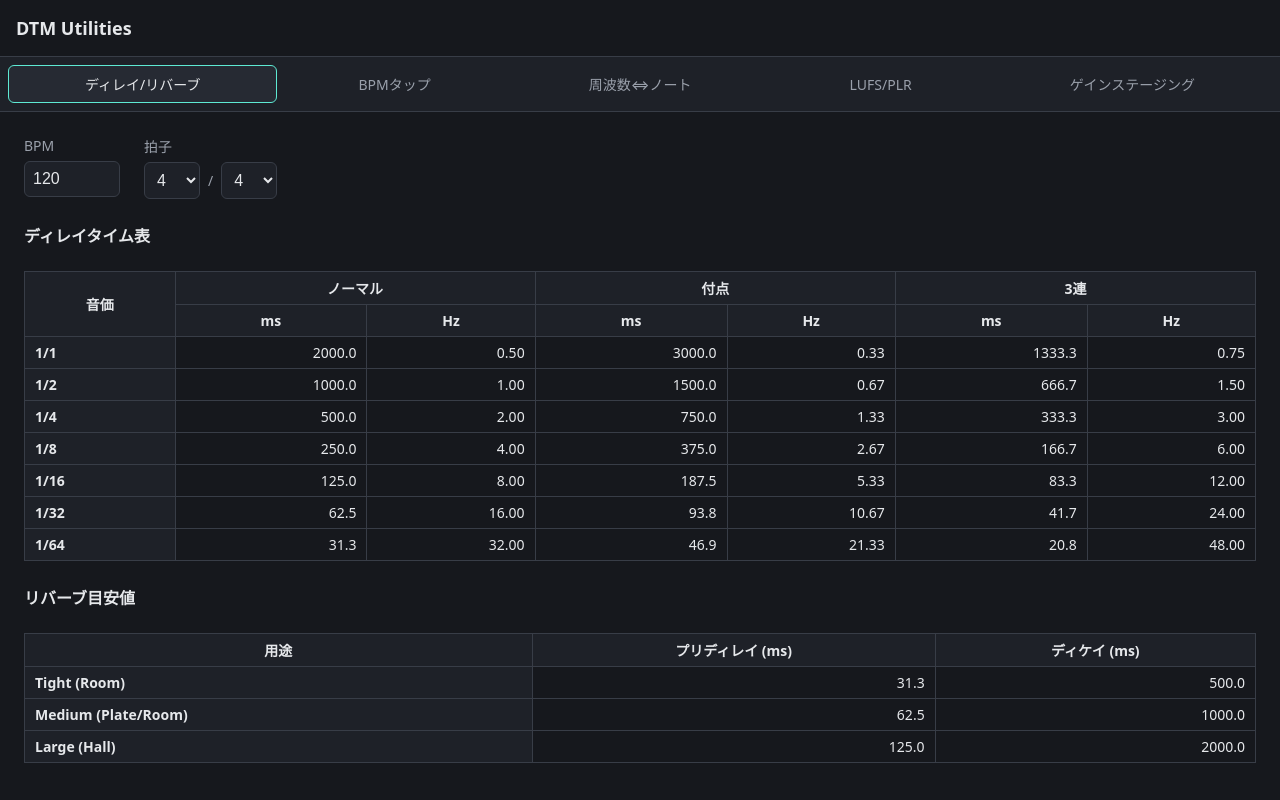
Test: App › hands the tapped BPM off to the delay/reverb tab and switches to it
This screenshot has width=1280, height=800.
Click the tab "BPMタップ" at (395, 84), box [281,65,508,103]
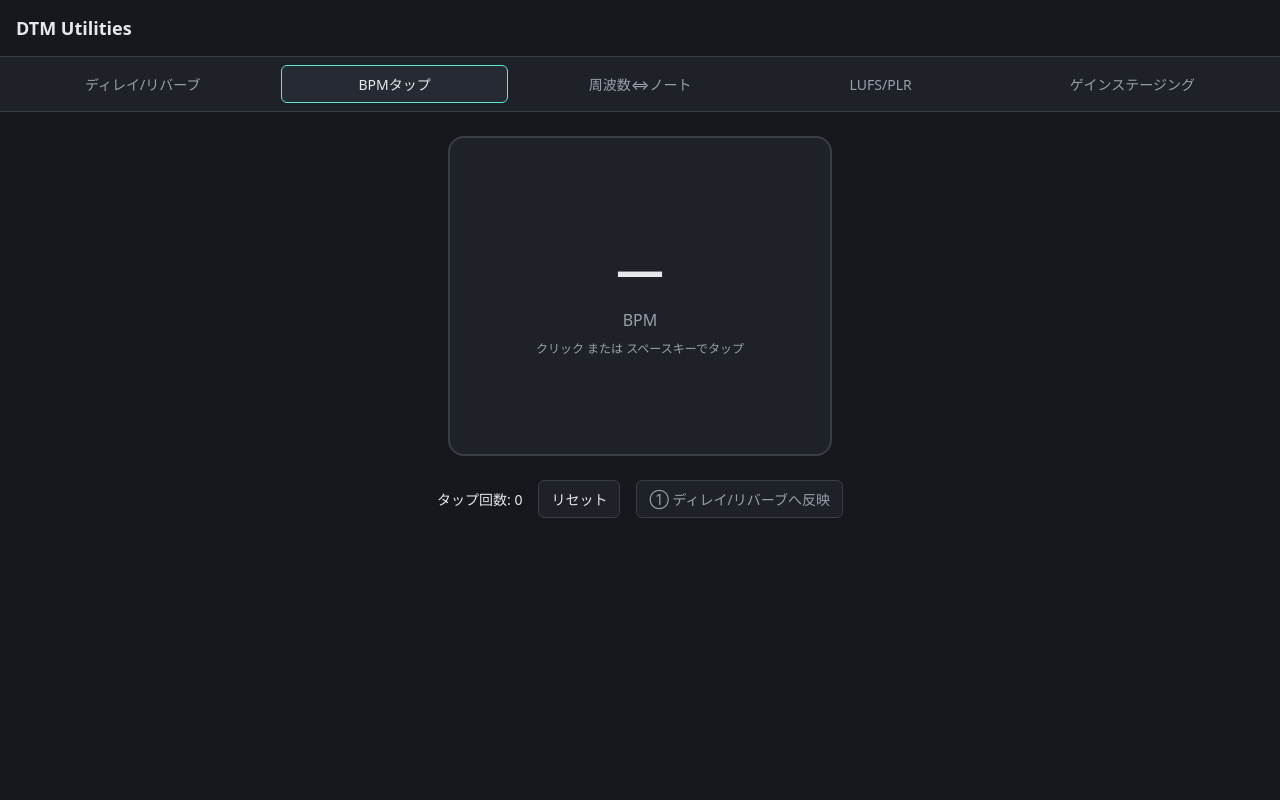
Click the button "— BPM クリック または スペースキーでタップ" at (640, 296), box [448,136,832,456]
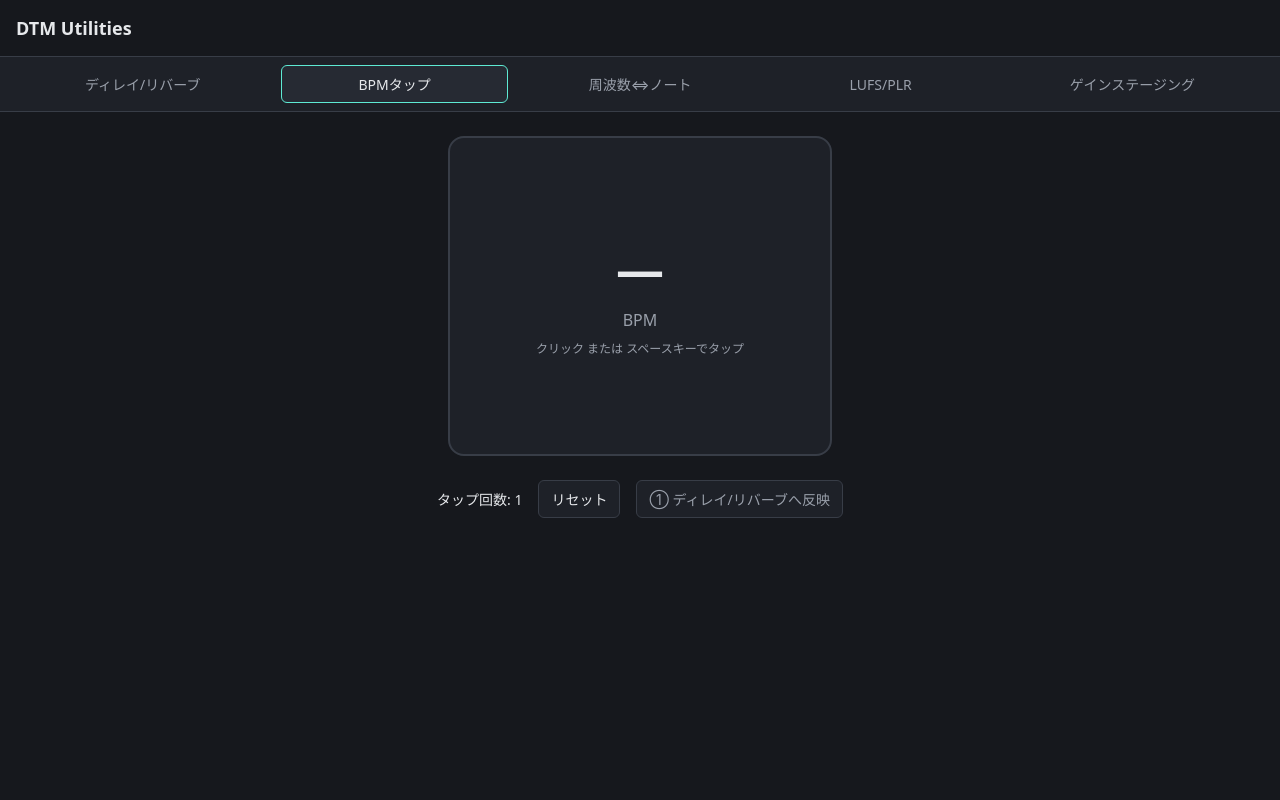
Click the button "— BPM クリック または スペースキーでタップ" at (640, 296), box [448,136,832,456]
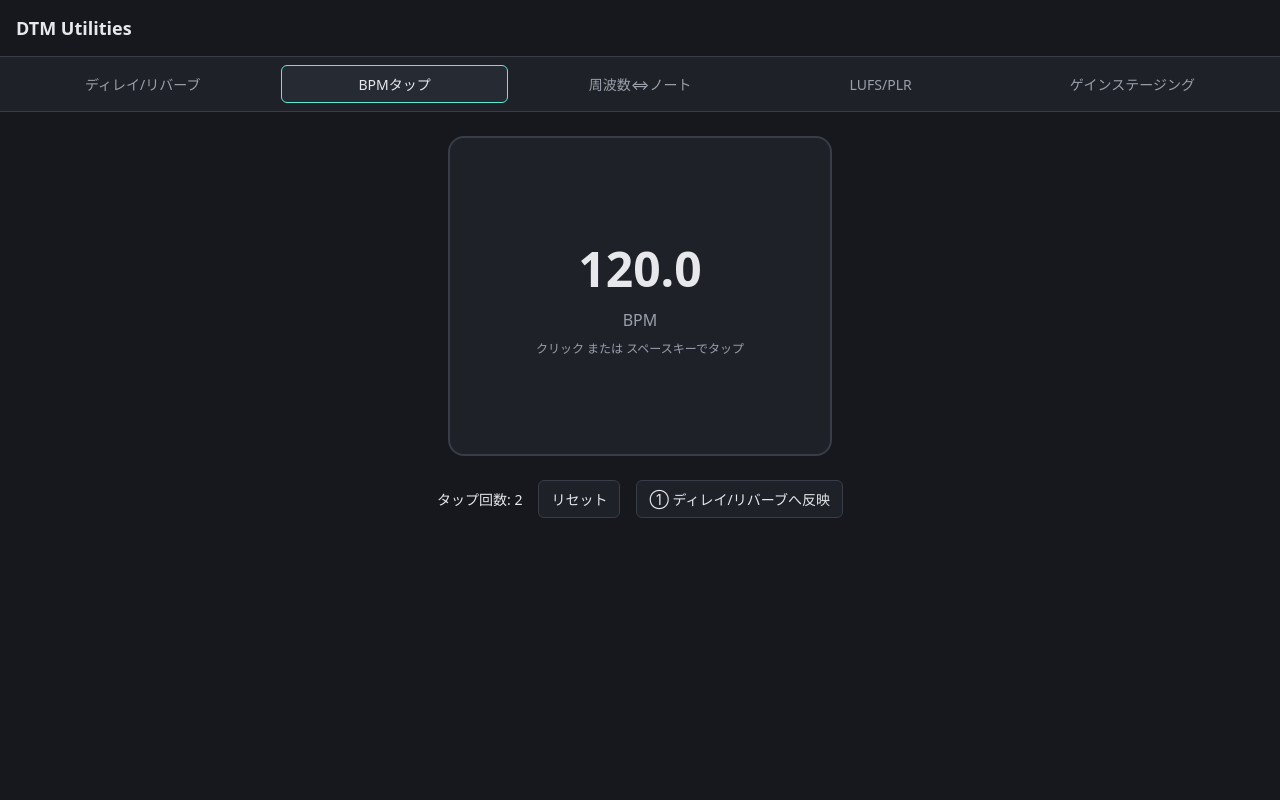
Click the button "① ディレイ/リバーブへ反映" at (740, 499), box [636,480,843,518]
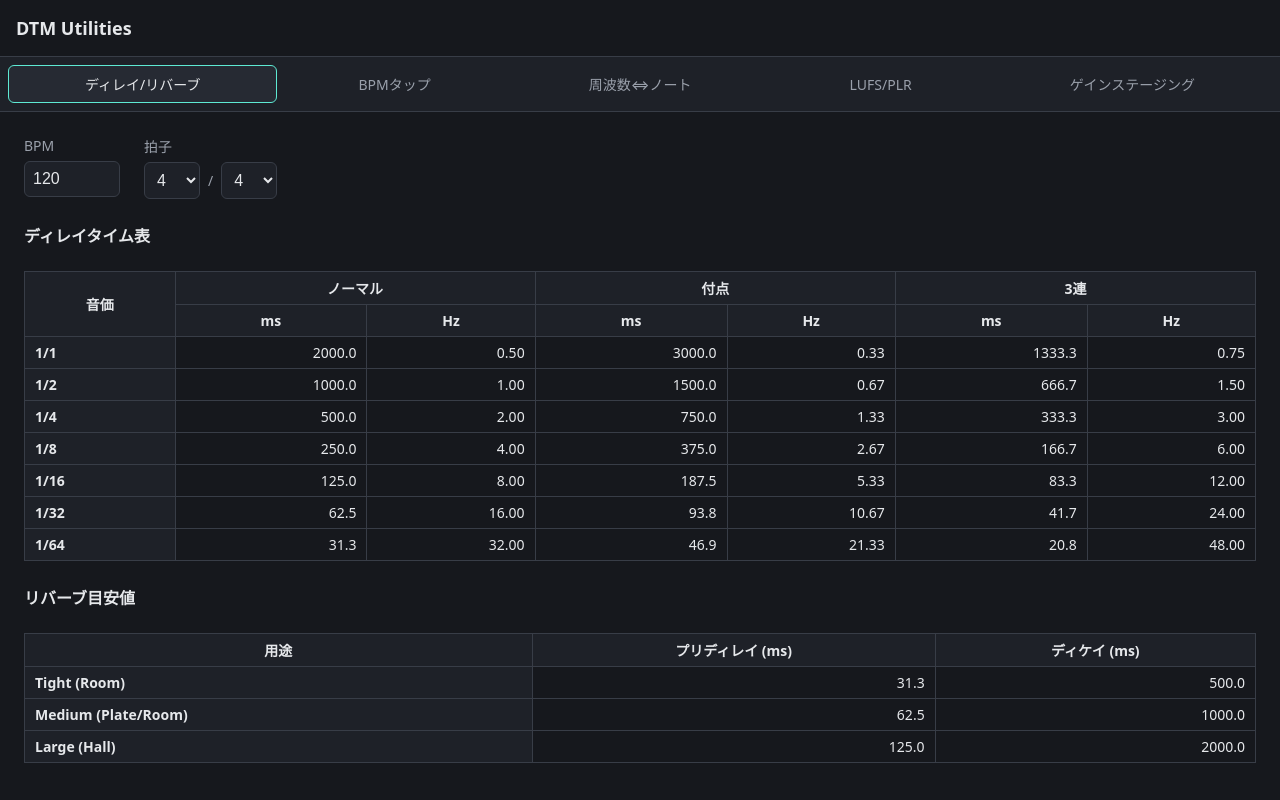
Expected: the number field labelled "BPM" holds "120", [24,161,120,197]
